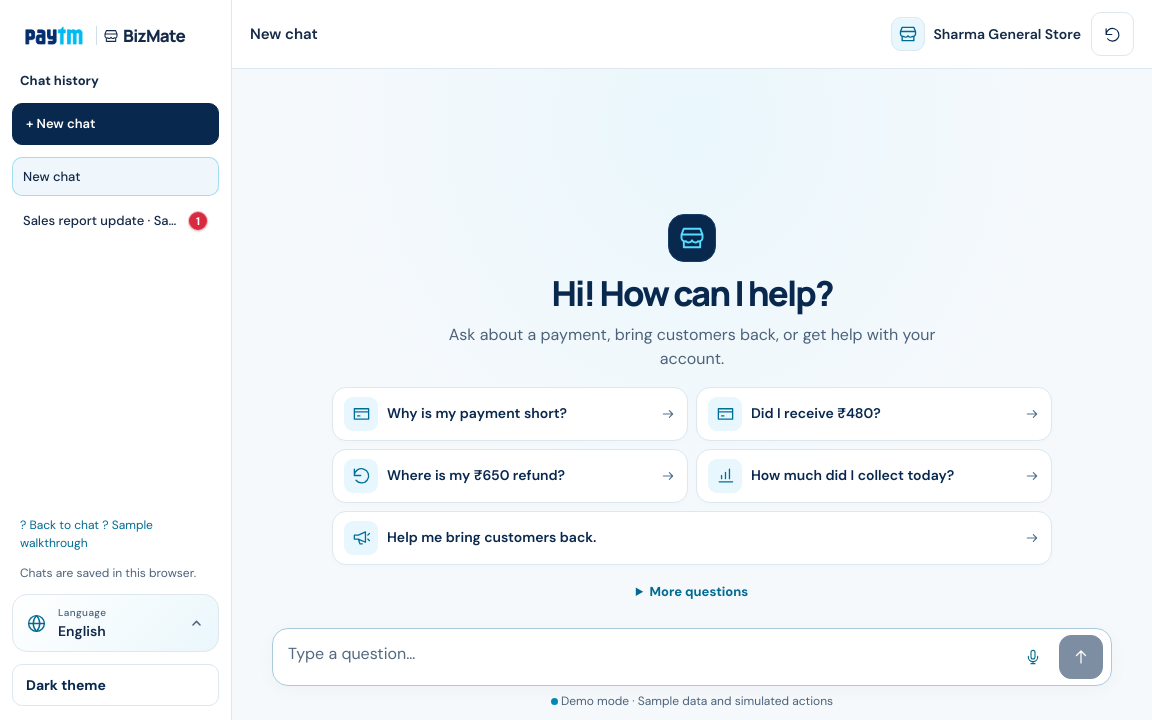
Scenario: preserves the draft after a transcription failure in en
Step 1. Click the button with aria-label "Language:" → point(116, 623), box [12, 594, 219, 652]
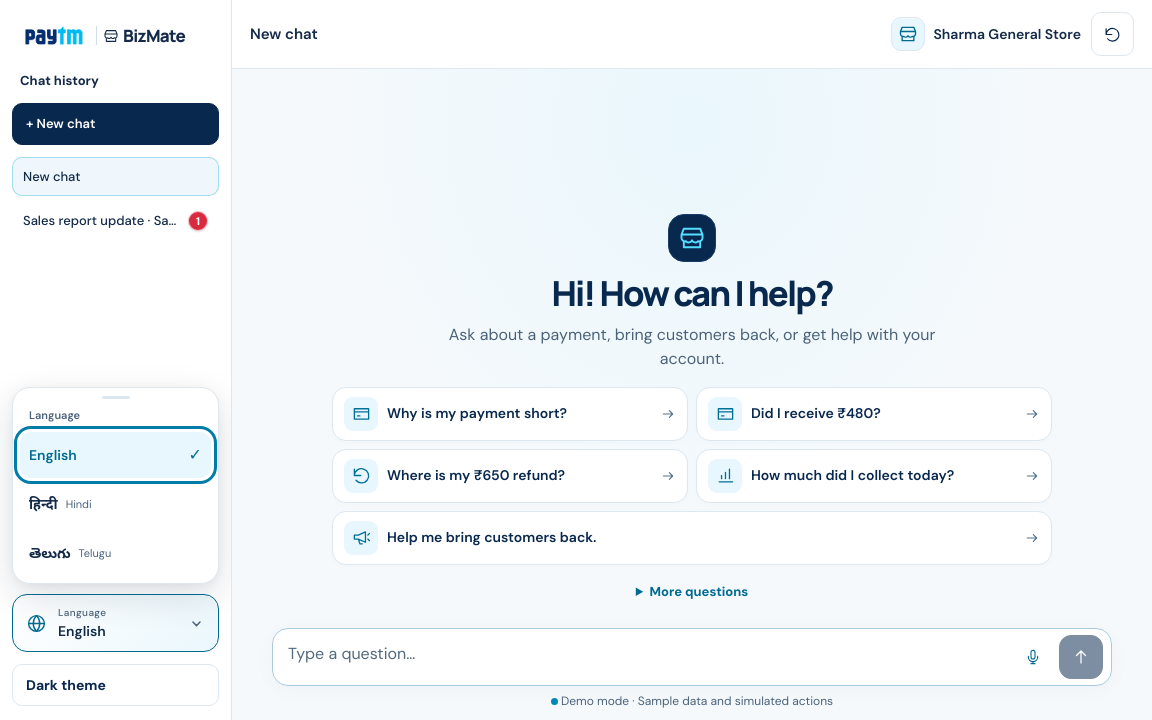
Step 2. Click the menu item "English ✓" → point(116, 455), box [20, 432, 211, 478]
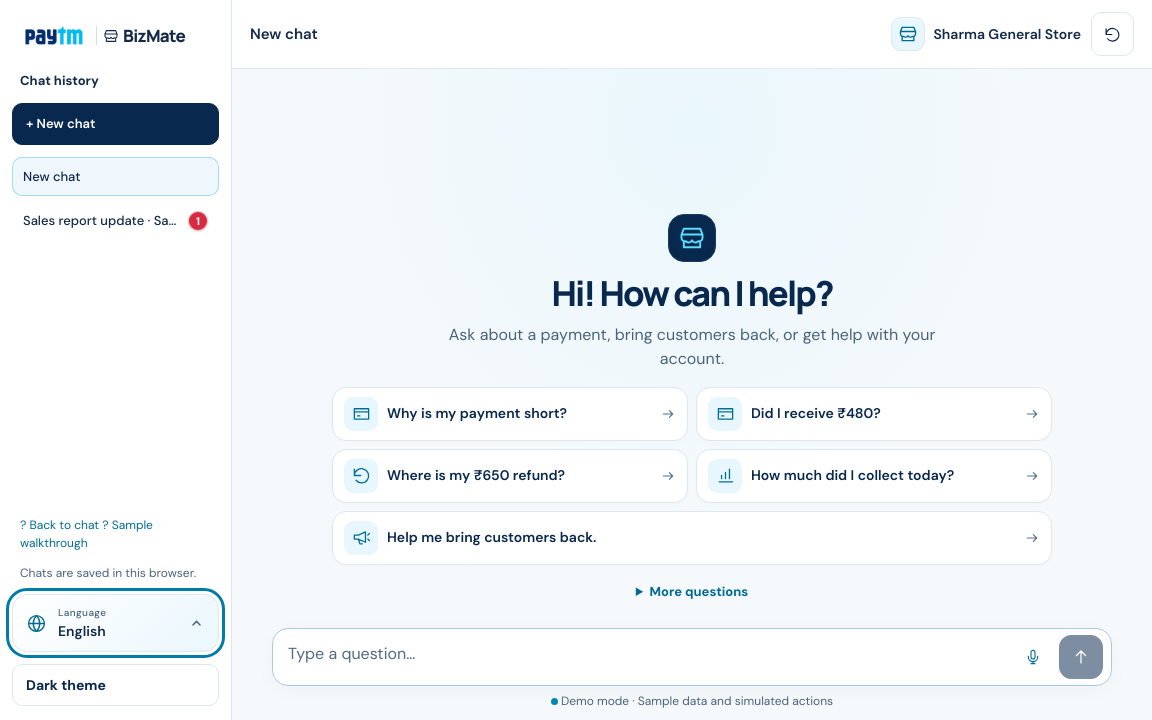
Step 3. Type "Existing draft" into the text box labelled "Type a question" → point(643, 657), box [281, 635, 1005, 679]
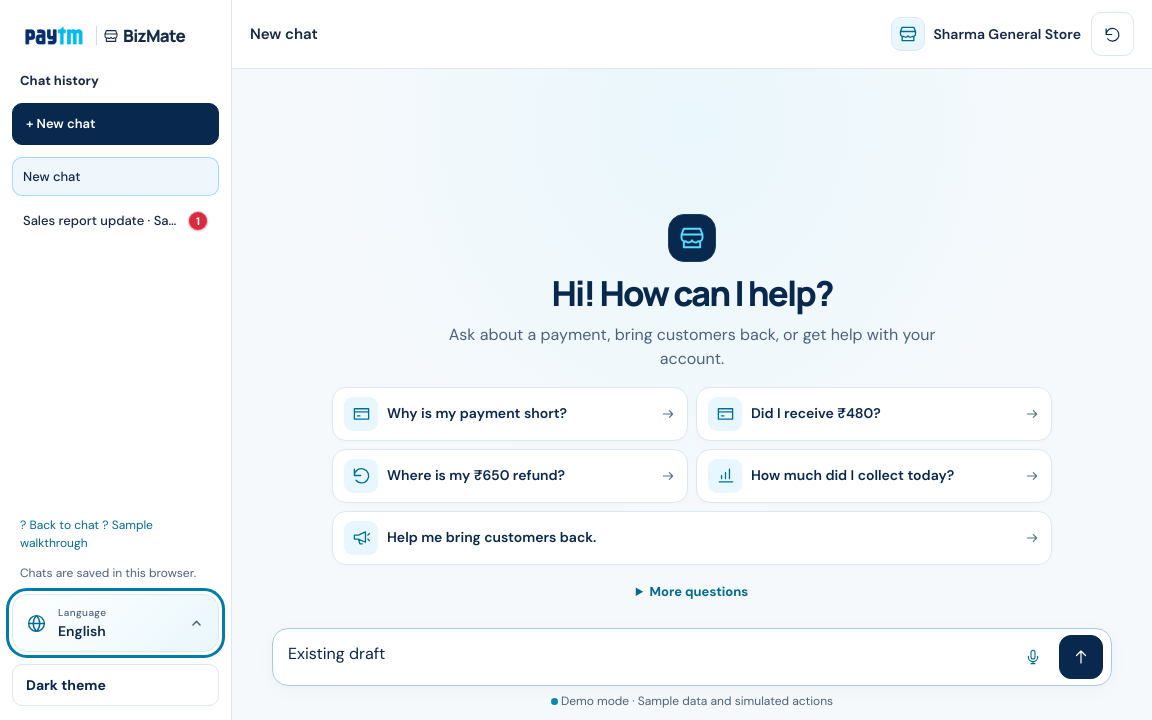
Step 4. Click the button named "Speak" → point(1033, 657), box [1011, 635, 1055, 679]
Wait 3000 ms
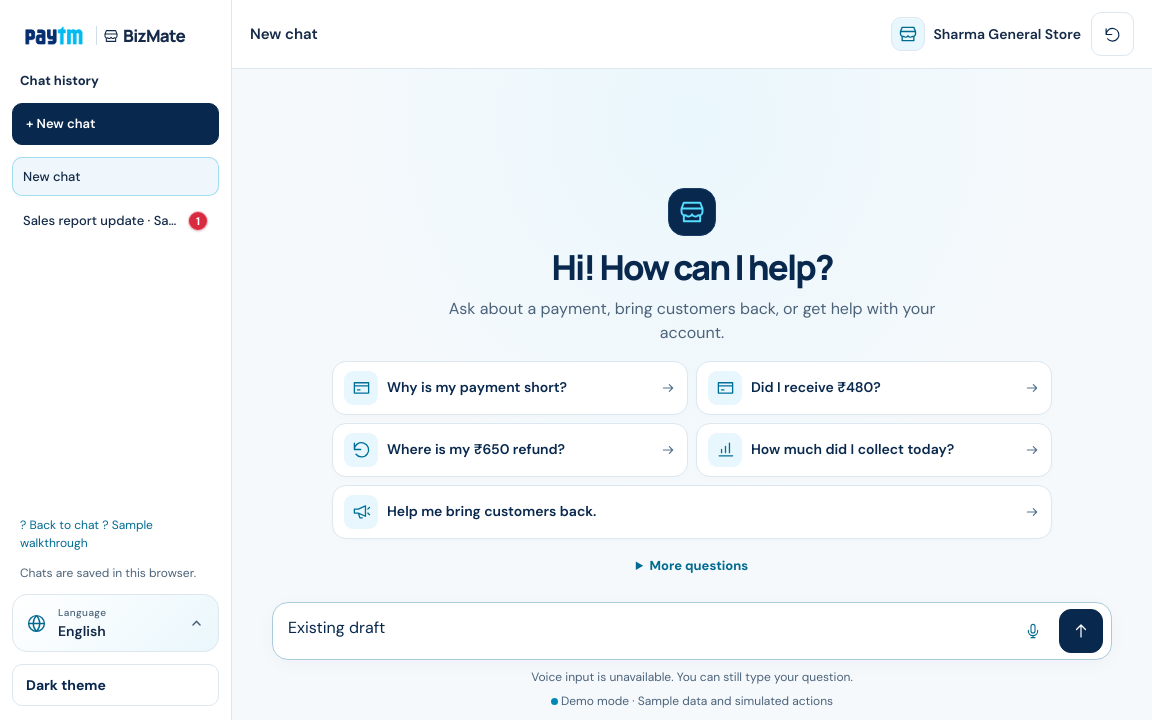
Result: the text "Voice input is unavailable. You can still type your question." is shown at [531, 669, 853, 685]
